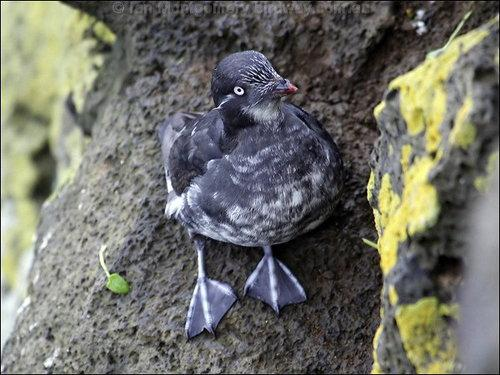006.Least_Auklet: (156, 50, 347, 340)
